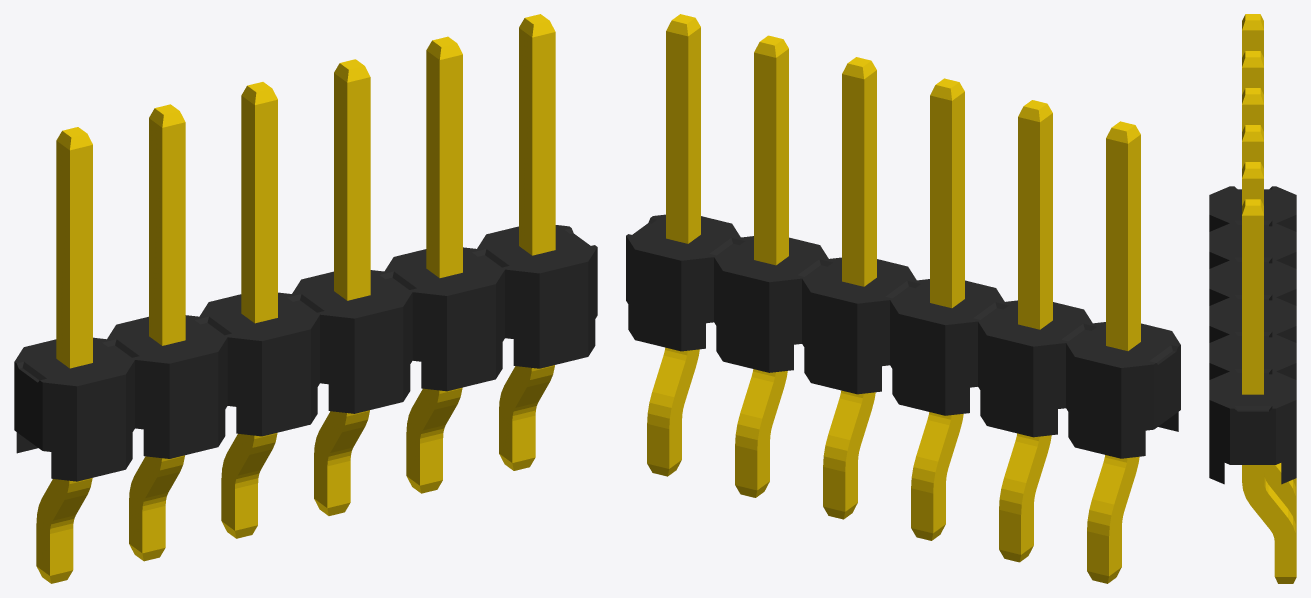
Rendered from DS1025 (PLS-06T CONNFLY).obj.
3 renders of one model, left to right at view 1: azimuth 30°, elevation 25°; view 2: azimuth 150°, elevation 25°; view 3: azimuth 270°, elevation 25°, orthographic. The views are drawn at different scales.
Visible parts, largest first — view 1: DS1025_(PLS-06T_CONNFLY); view 2: DS1025_(PLS-06T_CONNFLY); view 3: DS1025_(PLS-06T_CONNFLY).
Part boxes in pixels (left/top/right/bottom): DS1025_(PLS-06T_CONNFLY): left=14, top=14, right=597, bottom=583; DS1025_(PLS-06T_CONNFLY): left=626, top=14, right=1180, bottom=583; DS1025_(PLS-06T_CONNFLY): left=1209, top=14, right=1296, bottom=583.
Size of the model in its own units: 0.0104 by 0.00826 by 0.00173.
